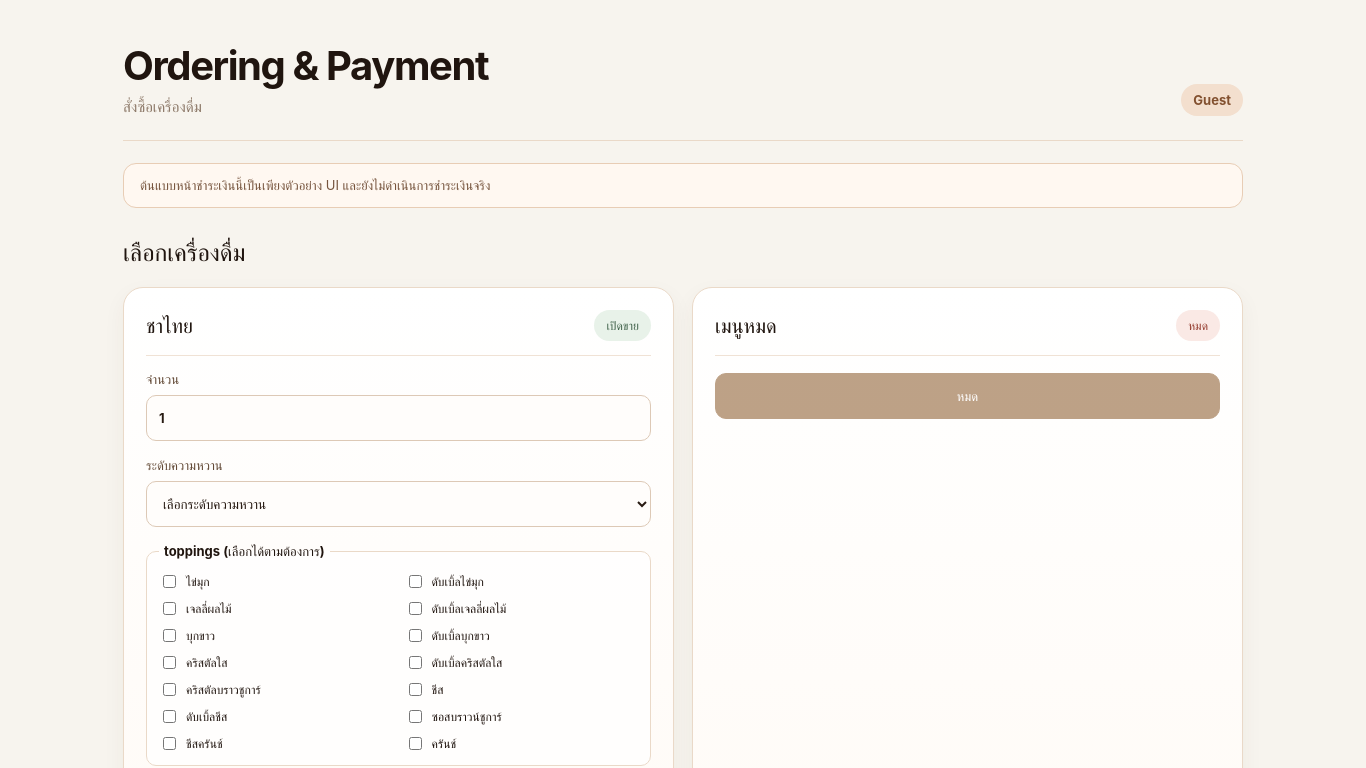
Scenario: OrderPage › omits optional toppings and ice so the API applies the ice default
Expected: the heading "ชาไทย" is shown, [146,314,193,338]
Step 1. Select "ไม่หวาน" in the dropdown labelled "ระดับความหวาน" → x=398, y=504, box [146,481,651,527]
(page scrolled)
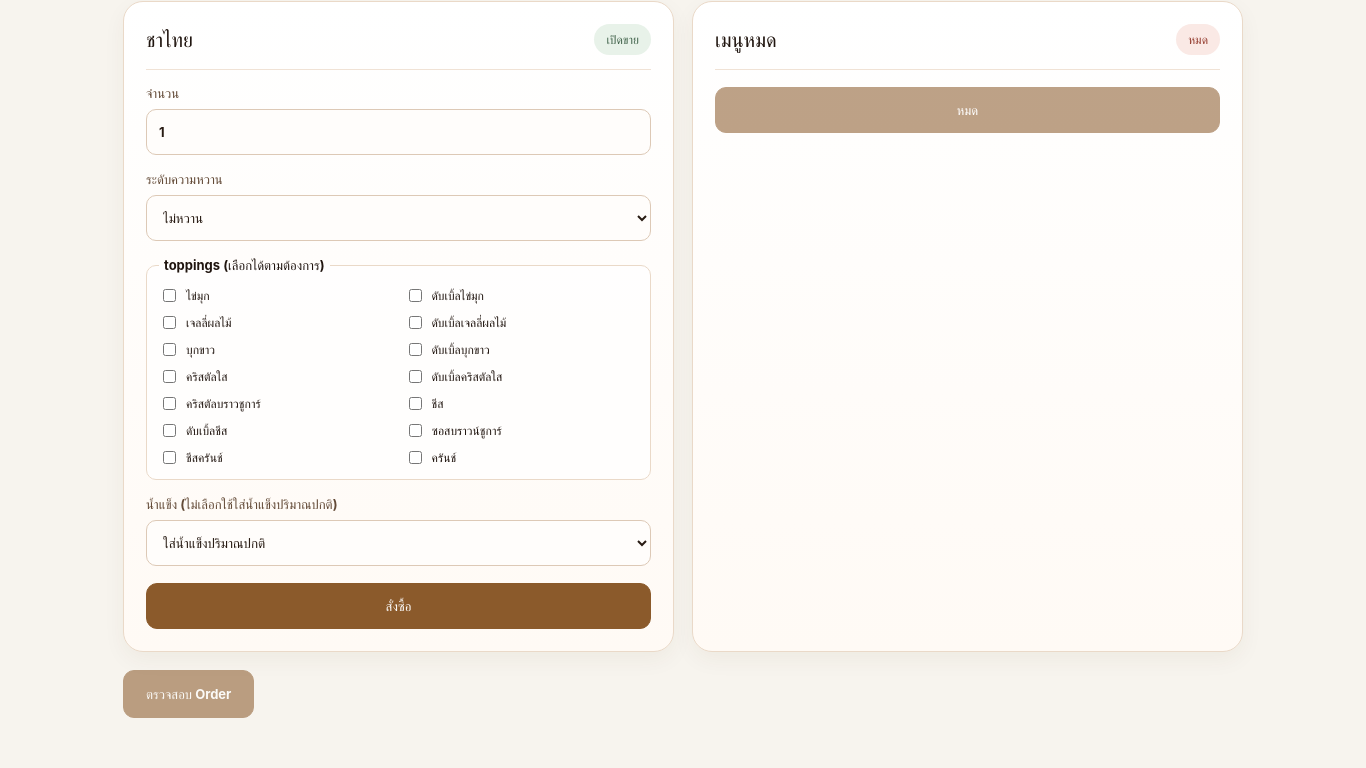
Step 2. Click the button "สั่งซื้อ" → x=398, y=606, box [146,583,651,629]
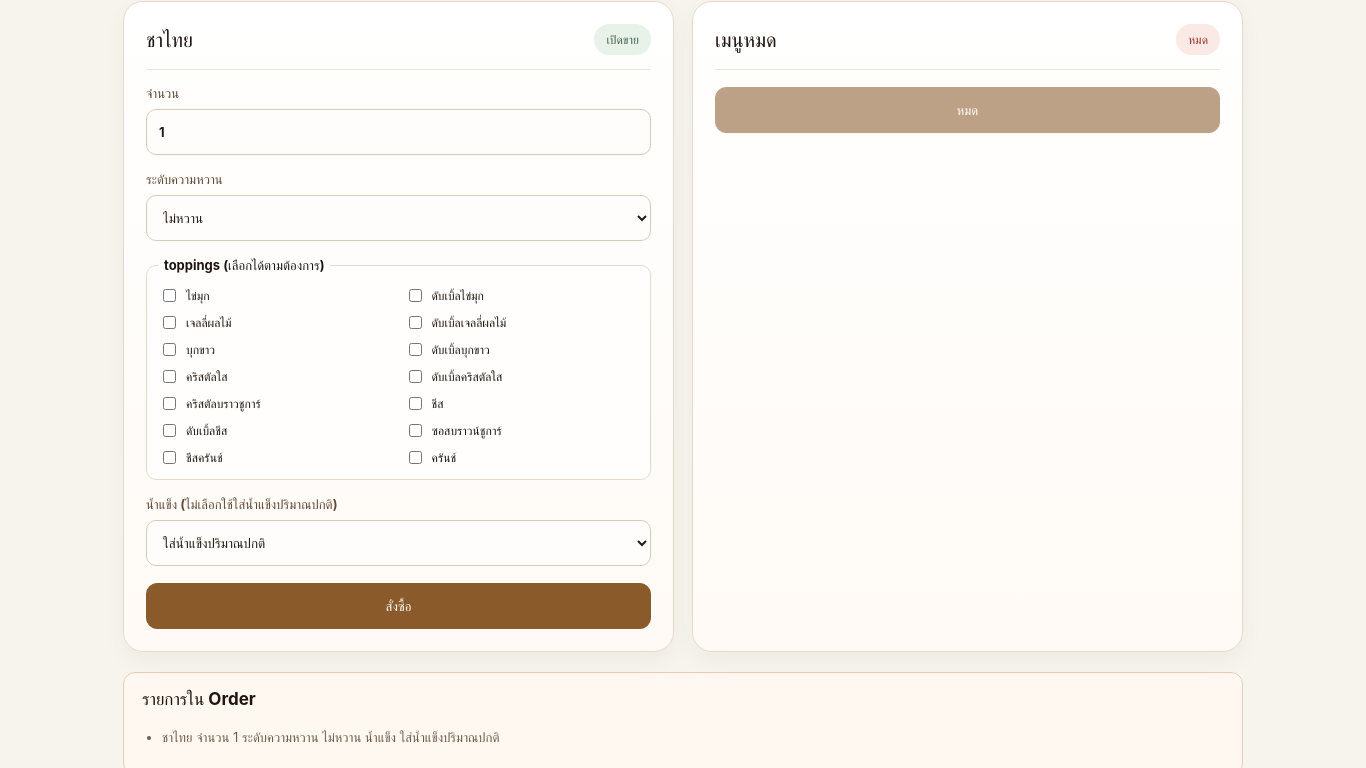
Result: the list item "น้ำแข็ง ใส่น้ำแข็งปริมาณปกติ" is shown at [162,729,500,745]
